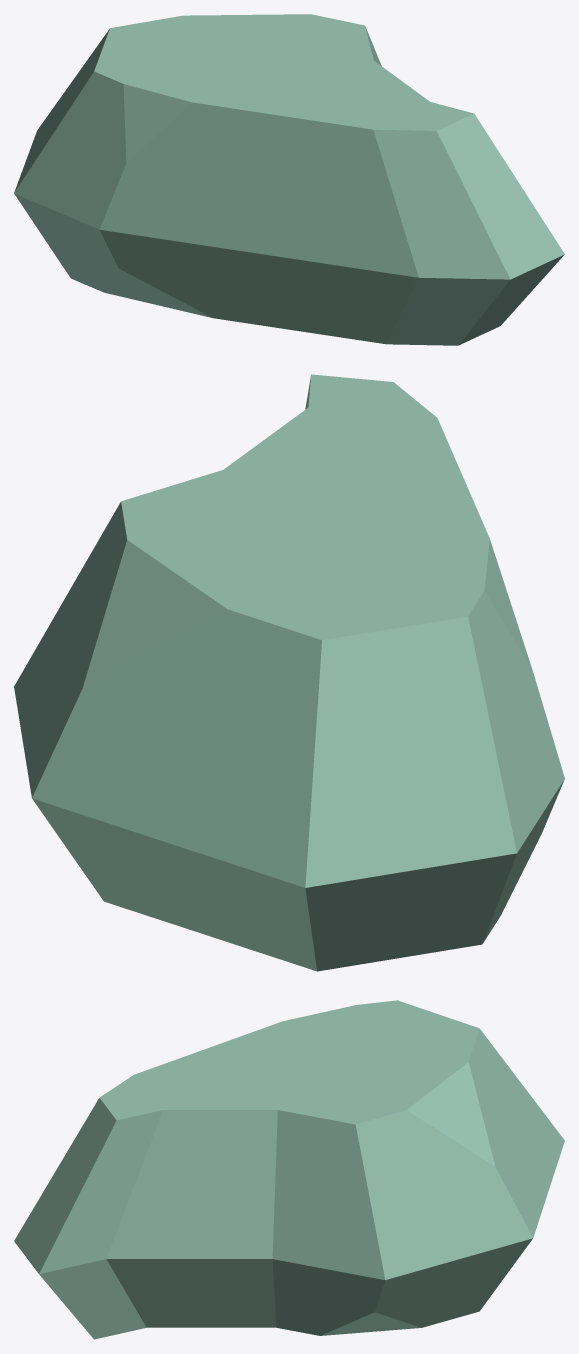
Rendered from naturePack_175.fbx.
3 renders of one model, top to bottom at view 1: azimuth 30°, elevation 25°; view 2: azimuth 150°, elevation 25°; view 3: azimuth 270°, elevation 25°, orthographic. The views are drawn at different scales.
Visible parts, largest first — view 1: naturePack_175; view 2: naturePack_175; view 3: naturePack_175.
Boxes of the visible parts, x1,y1,x2,y2 form: naturePack_175: (14, 14, 564, 345); naturePack_175: (14, 374, 564, 971); naturePack_175: (14, 1000, 564, 1339).
Size of the model in its own units: 218 by 119 by 281.
